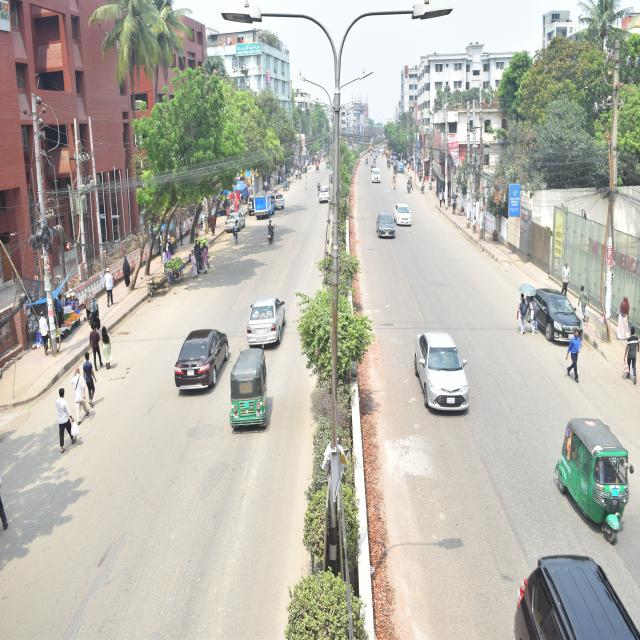car: (410, 330, 473, 431), (170, 318, 229, 400), (525, 292, 580, 349), (243, 286, 287, 351), (221, 199, 245, 238), (374, 212, 398, 246), (392, 198, 416, 230), (306, 172, 330, 202), (367, 171, 387, 194), (266, 190, 284, 207)
motorbike: (264, 216, 278, 248)
pickup-van: (250, 182, 273, 220)
